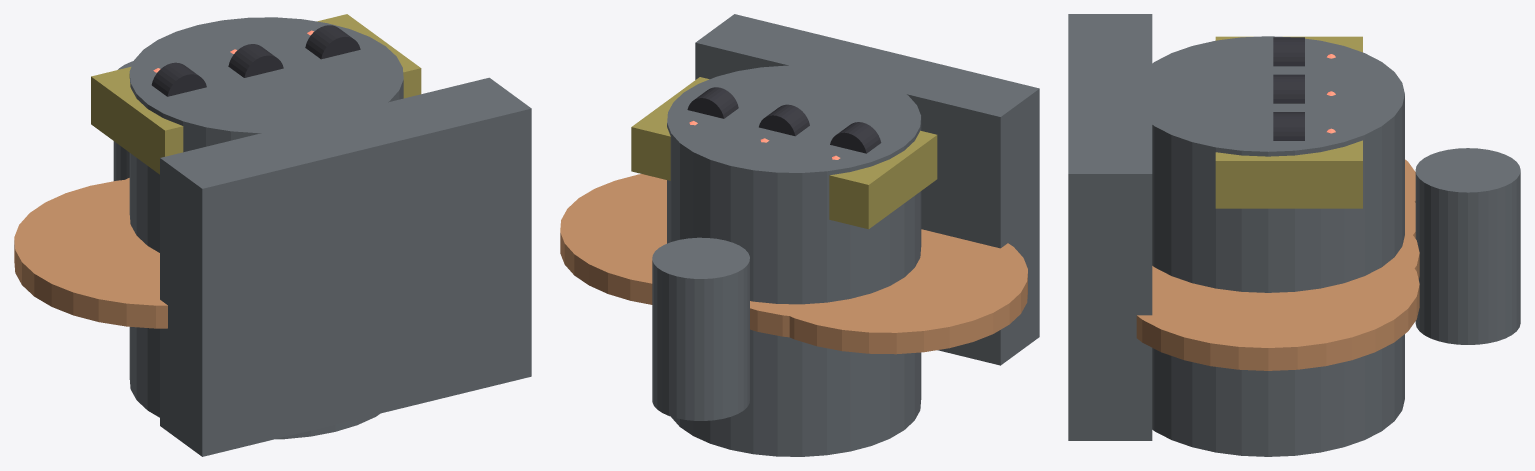
File: subterranean_generator.glb
The picture shows the model from 3 angles, left to right: view 1: azimuth 30°, elevation 25°; view 2: azimuth 150°, elevation 25°; view 3: azimuth 270°, elevation 25°; orthographic projection. The views are drawn at different scales.
Parts seen in each view (by area): view 1: Cube, Cylinder, Cylinder.001, Cube.001, Cylinder.005, Cylinder.007, Cylinder.006, Cylinder.008; view 2: Cylinder, Cube, Cylinder.008, Cylinder.001, Cylinder.004, Cube.001, Cylinder.002, Cylinder.003, Cylinder.006, Cylinder.007, Cylinder.005; view 3: Cylinder, Cube, Cylinder.008, Cylinder.004, Cube.001, Cylinder.003, Cylinder.005, Cylinder.006, Cylinder.007, Cylinder.002.
Part boxes in pixels (<box>): Cube: <box>160,77,531,456</box>; Cylinder: <box>129,17,403,439</box>; Cylinder.001: <box>14,179,167,328</box>; Cube.001: <box>91,14,421,174</box>; Cylinder.005: <box>151,62,206,96</box>; Cylinder.007: <box>305,25,360,59</box>; Cylinder.006: <box>228,44,283,77</box>; Cylinder.008: <box>113,61,133,180</box>; Cylinder: <box>667,65,921,456</box>; Cube: <box>695,14,1039,365</box>; Cylinder.008: <box>652,237,749,420</box>; Cylinder.001: <box>766,229,1027,354</box>; Cylinder.004: <box>560,174,666,304</box>; Cube.001: <box>631,77,937,229</box>; Cylinder.002: <box>750,236,968,337</box>; Cylinder.003: <box>619,202,666,275</box>; Cylinder.006: <box>759,104,809,136</box>; Cylinder.007: <box>687,87,738,118</box>; Cylinder.005: <box>830,122,881,153</box>; Cylinder: <box>1131,36,1404,456</box>; Cube: <box>1068,14,1152,440</box>; Cylinder.008: <box>1415,148,1520,344</box>; Cylinder.004: <box>1136,269,1419,370</box>; Cube.001: <box>1215,36,1362,208</box>; Cylinder.003: <box>1152,234,1419,316</box>; Cylinder.005: <box>1273,37,1304,66</box>; Cylinder.006: <box>1273,74,1304,103</box>; Cylinder.007: <box>1273,112,1304,140</box>; Cylinder.002: <box>1403,191,1415,245</box>.
Size of the model in its own units: 2.54 by 1.69 by 2.15.
